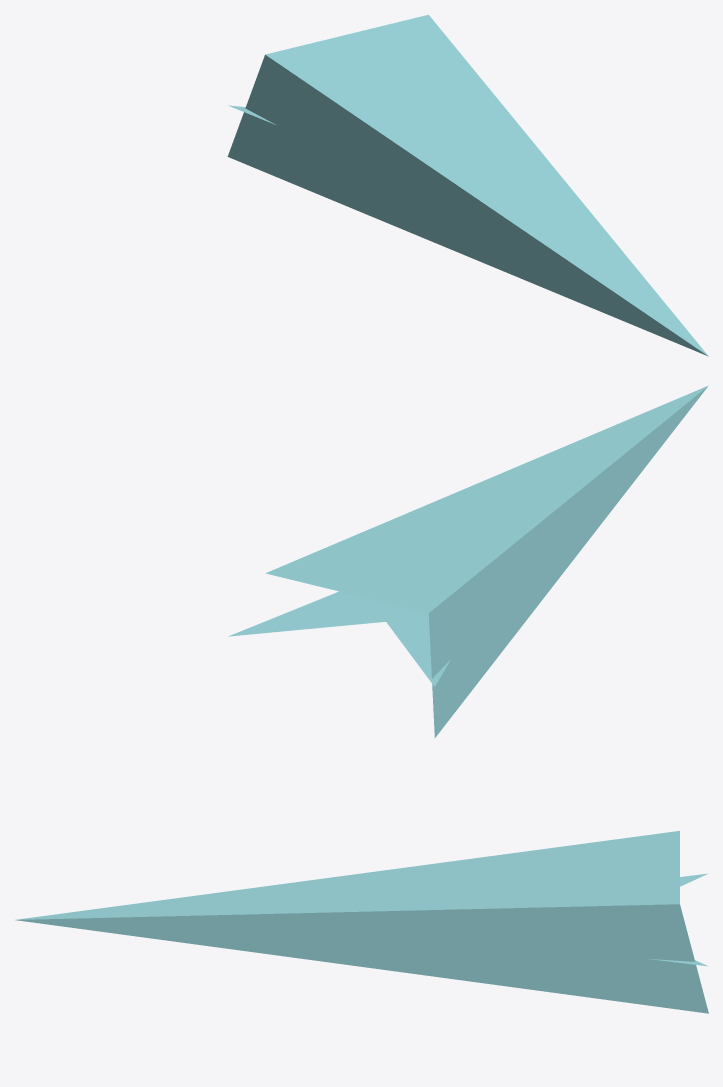
The model's file is test-ship.glb.
3 views of the same model, one above another, from view 1: azimuth 30°, elevation 25°; view 2: azimuth 150°, elevation 25°; view 3: azimuth 270°, elevation 25° (orthographic). The views are drawn at different scales.
Parts seen in each view (by area): view 1: NeutralTestShip; view 2: NeutralTestShip; view 3: NeutralTestShip.
Part boxes in pixels (bbox=[...]): NeutralTestShip: bbox=[227, 14, 708, 356]; NeutralTestShip: bbox=[228, 385, 708, 738]; NeutralTestShip: bbox=[15, 831, 708, 1013].
Size of the model in its own units: 2.5 by 0.38 by 2.4.
